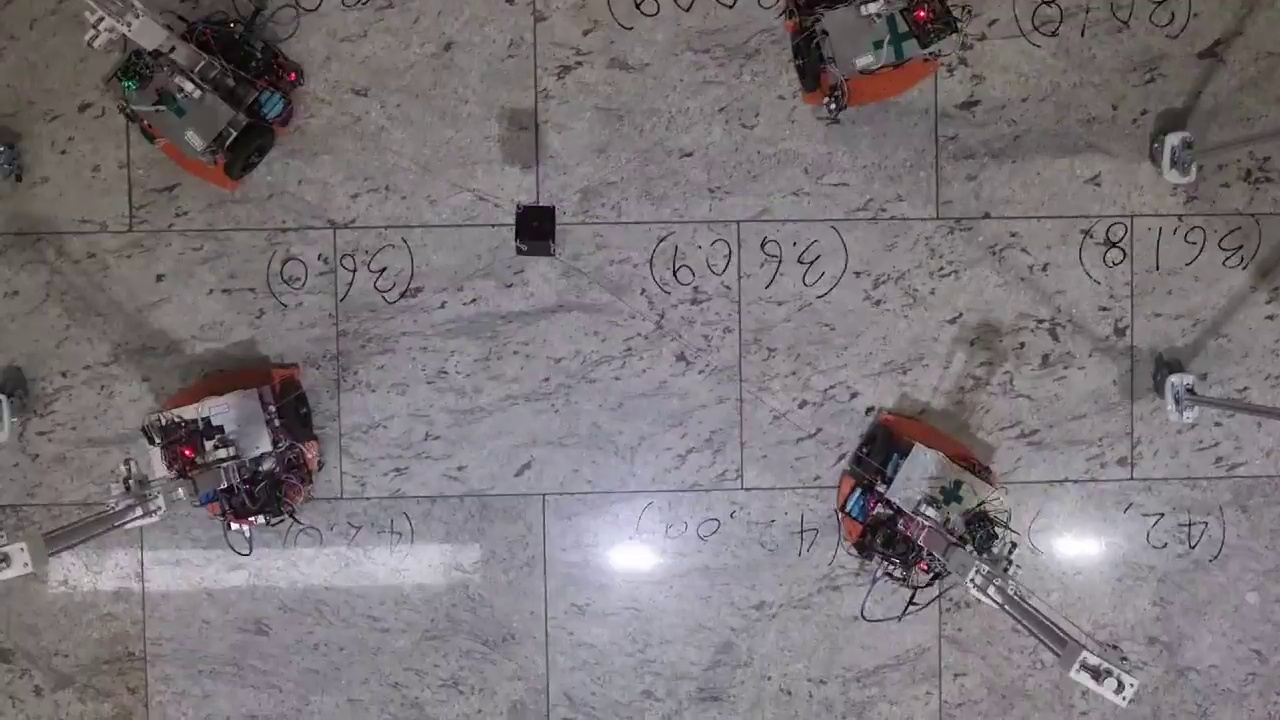e0: (515, 206, 557, 257)
r1: (850, 422, 1003, 541)
r2: (790, 1, 963, 92)
r3: (115, 48, 279, 181)
r4: (143, 377, 315, 472)
y_+_axis_vector: (738, 217, 1132, 222)
y_-_axis_vector: (335, 222, 739, 229)
